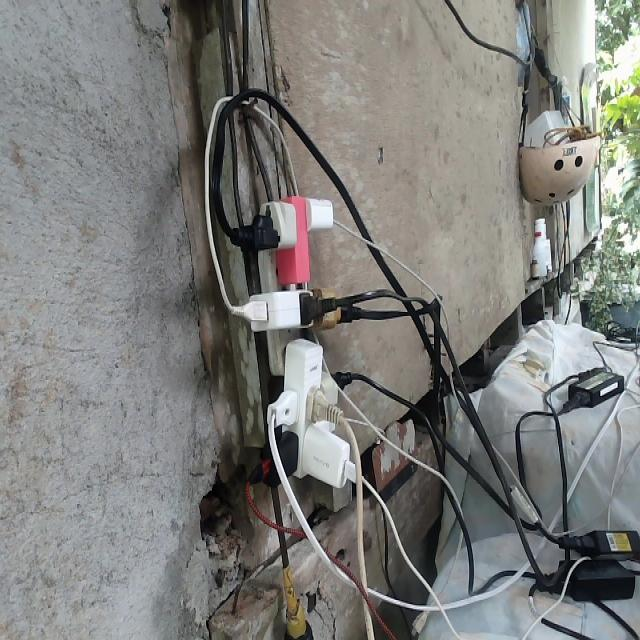-: (236, 187, 363, 492)
